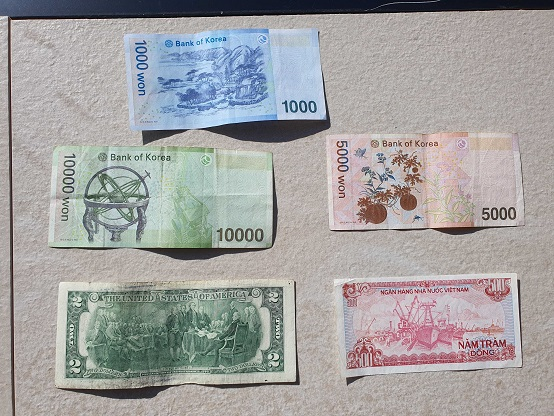10000won: (48, 146, 275, 252)
1000won: (121, 27, 331, 129)
2dollar: (54, 277, 296, 391)
5000won: (326, 132, 526, 231)
500vnd: (331, 273, 525, 375)
